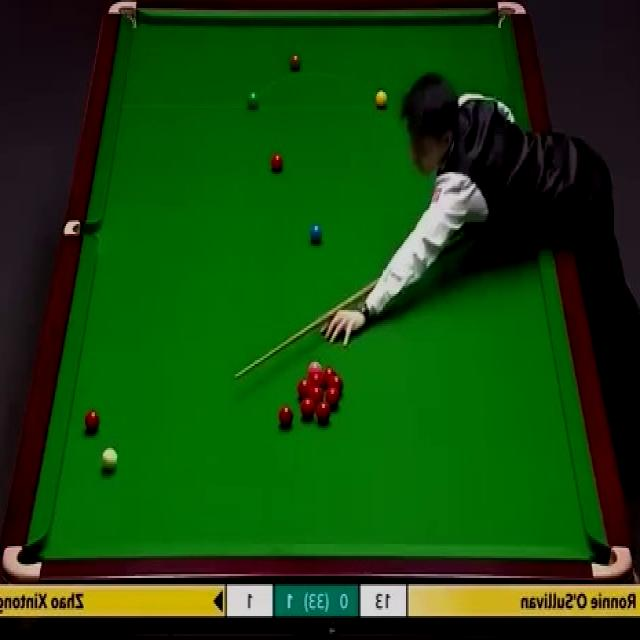blue-ball: (309, 223, 324, 246)
brown-ball: (289, 54, 302, 72)
green-ball: (246, 90, 260, 108)
pink-ball: (310, 356, 324, 369)
red-ball: (85, 409, 101, 436), (278, 406, 294, 430), (270, 152, 286, 175), (300, 396, 316, 418), (329, 374, 345, 392), (316, 396, 329, 418), (296, 378, 309, 399), (322, 368, 337, 386), (326, 392, 341, 408), (310, 370, 321, 386), (309, 388, 323, 398)
white-ball: (101, 447, 119, 470)
yellow-ball: (376, 89, 388, 109)
